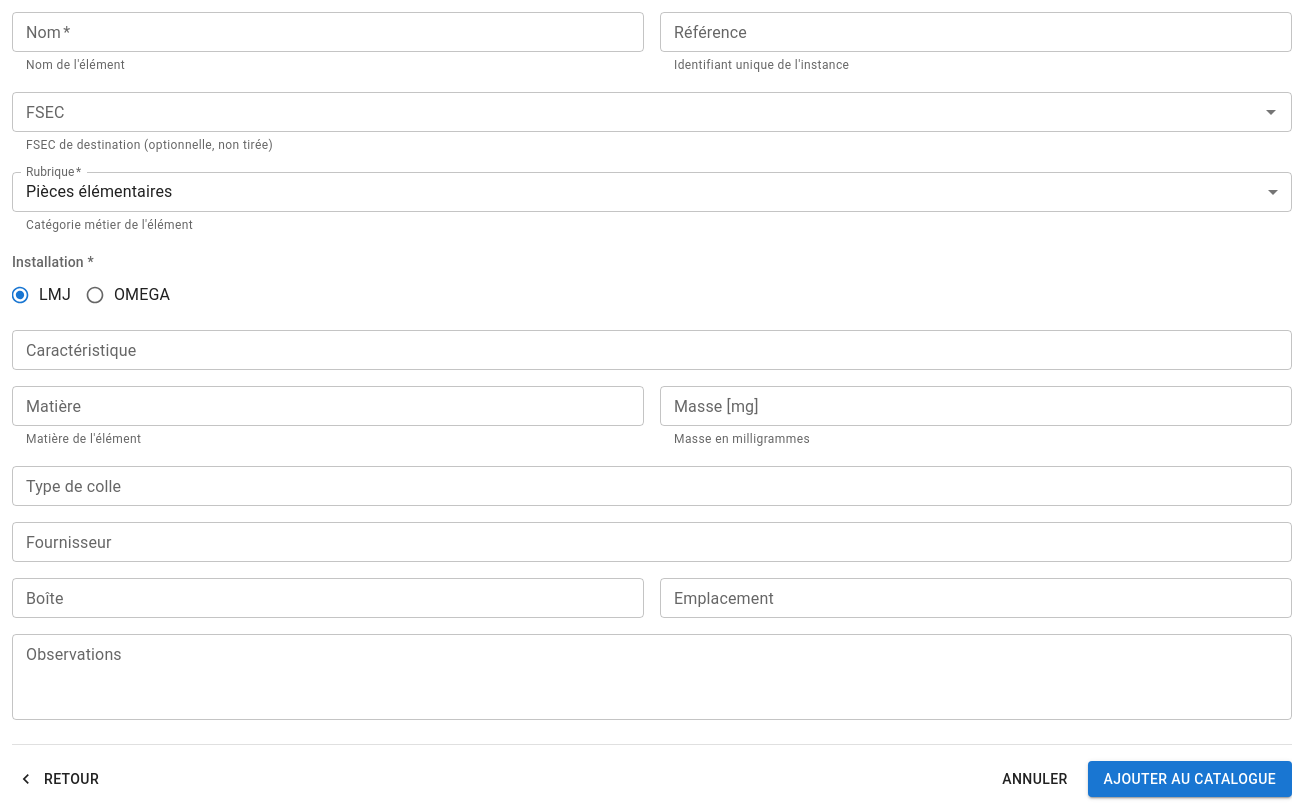
ElementFormShell › Matière / Masse (R03) › refuse une masse négative
Type "Écran Au" into the field labelled "Nom *" at x=328, y=32, box [12, 12, 644, 52]
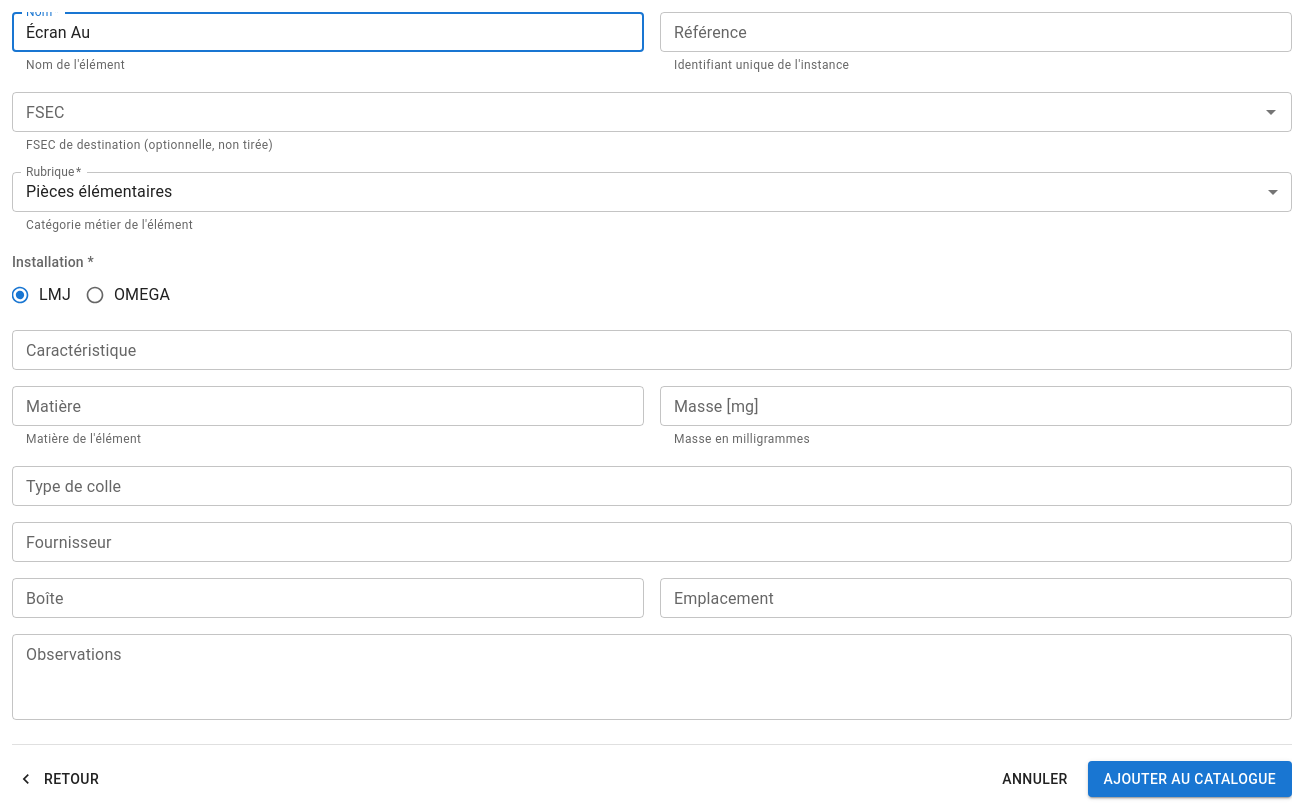
Type "-3" into the number field labelled "Masse [mg]" at x=976, y=406, box [660, 386, 1292, 426]
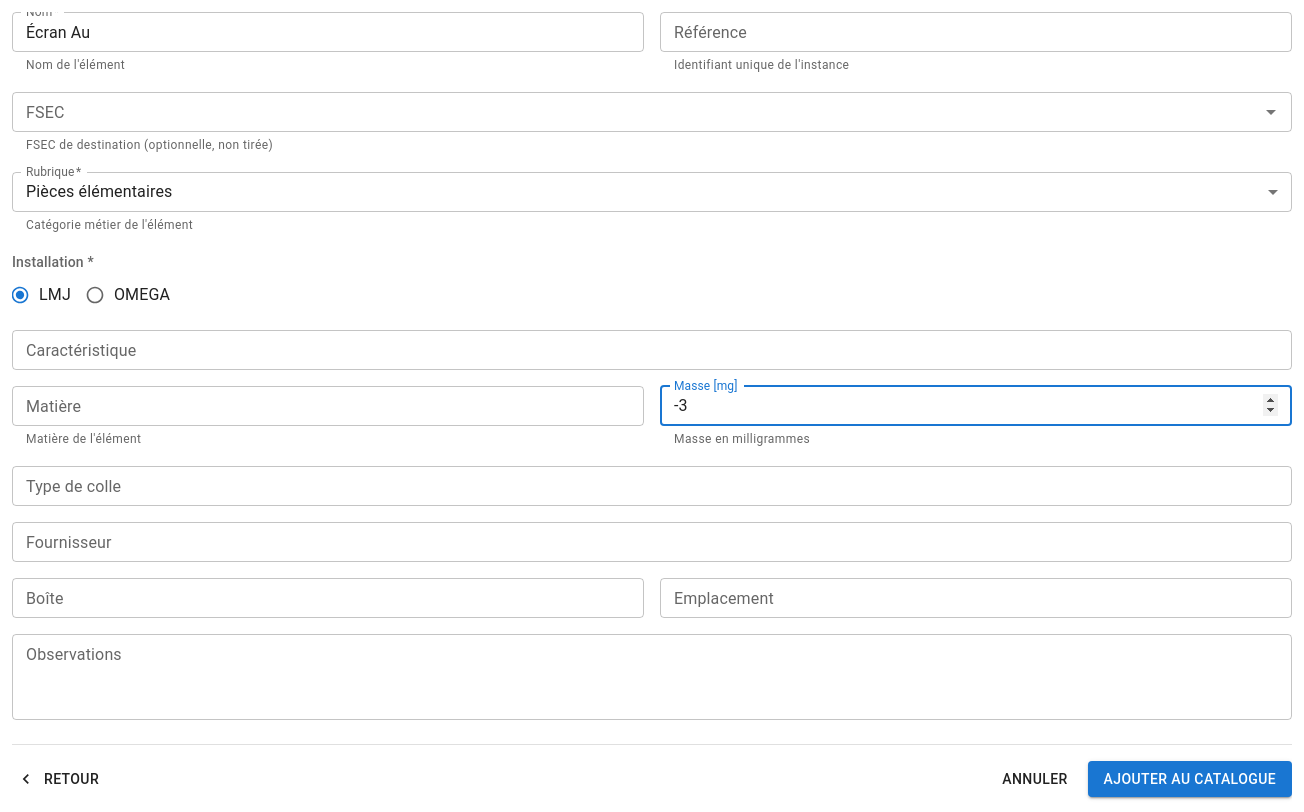
Click the button "Ajouter au catalogue" at x=1190, y=779, box [1088, 761, 1292, 797]
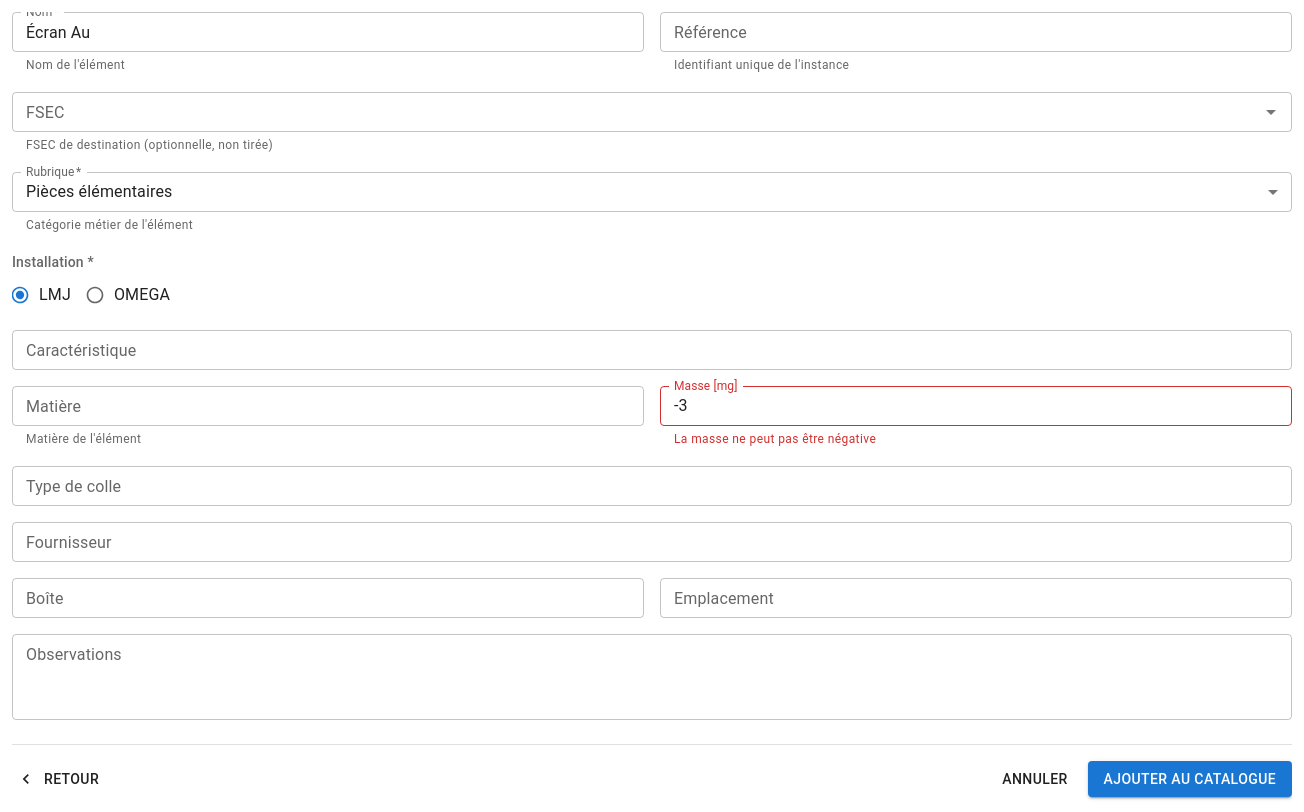
Check: the text "La masse ne peut pas être négative" is shown, box [674, 432, 876, 446]
